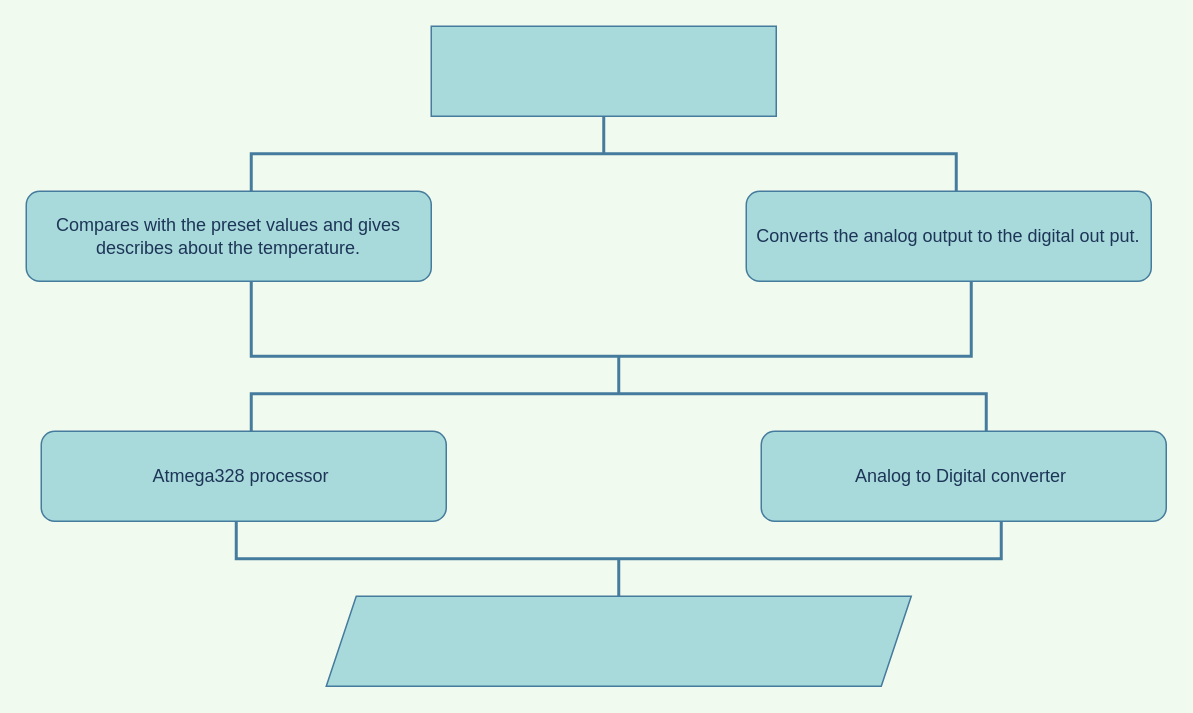
This 1193x713 diagram has some shape labels left out. The centre of each missing label's shape, as x and y in pixels:
Liquid crystal Display: point 603,70
SENSOR: point 618,640
